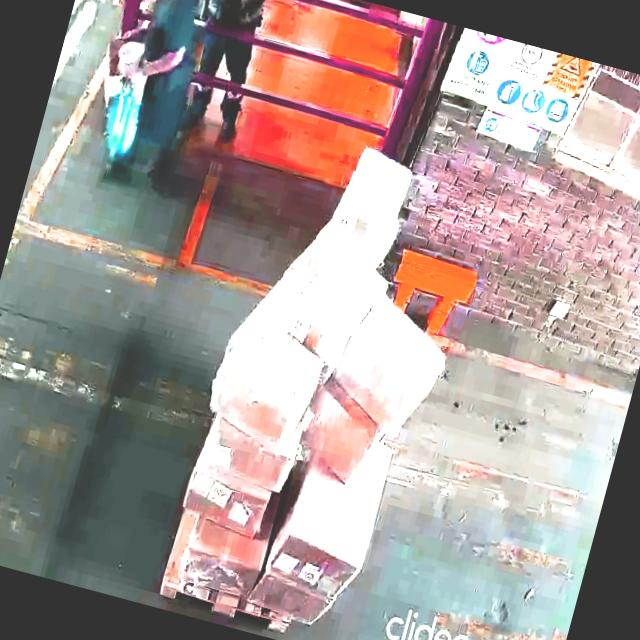Box: (198, 310, 326, 460), (331, 301, 450, 430), (272, 462, 383, 600), (289, 230, 377, 352), (329, 138, 417, 250), (294, 378, 384, 487), (178, 518, 272, 606), (178, 464, 275, 546), (200, 422, 298, 493), (250, 570, 336, 631)
